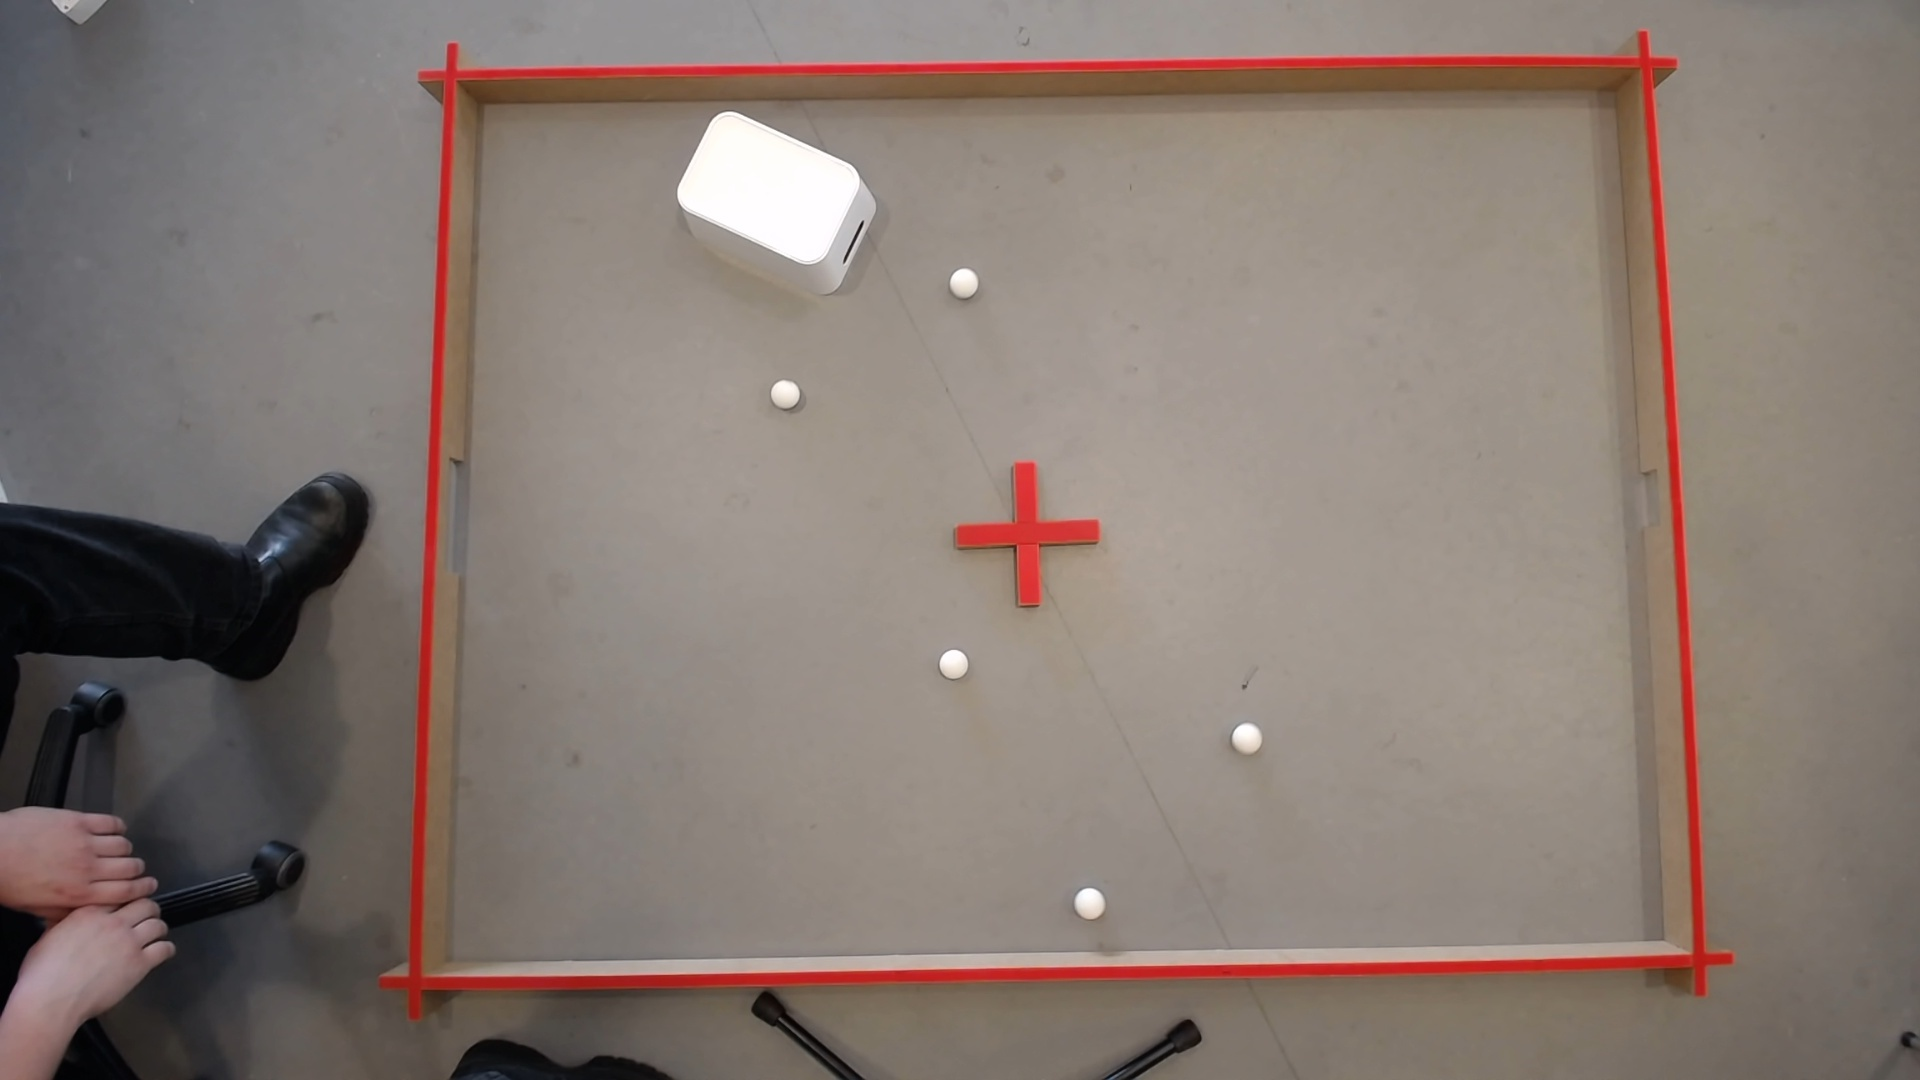balls: (669, 100, 866, 272), (1071, 882, 1106, 916), (935, 644, 971, 678), (949, 268, 976, 290), (771, 380, 799, 401)
car: (1230, 719, 1262, 750)
